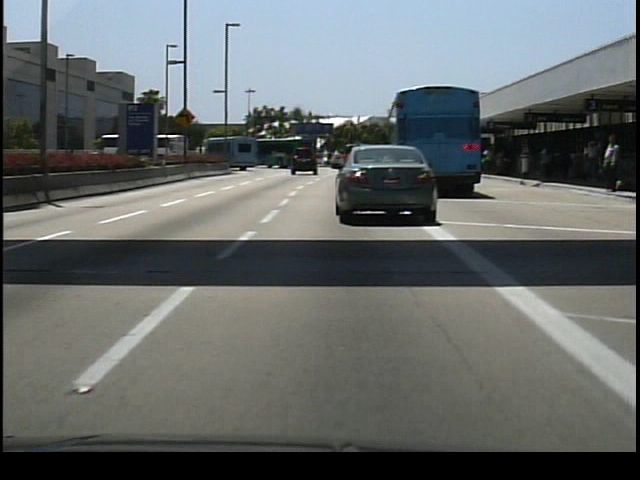person: (599, 132, 626, 197)
